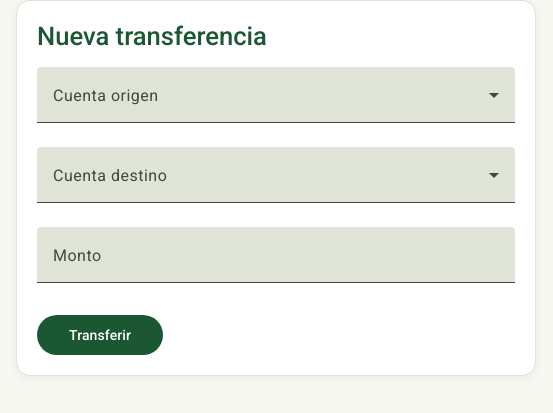
Test: TransferenciaFormComponent › debe_mostrar_error_y_no_llamar_al_backend_cuando_origen_y_destino_son_la_misma_cuenta
The width and height of the screenshot is (553, 413).
Select "1000000001 - Titular 1" in the dropdown named "cuentaOrigen": (276, 103) 53,91 -> 499,115
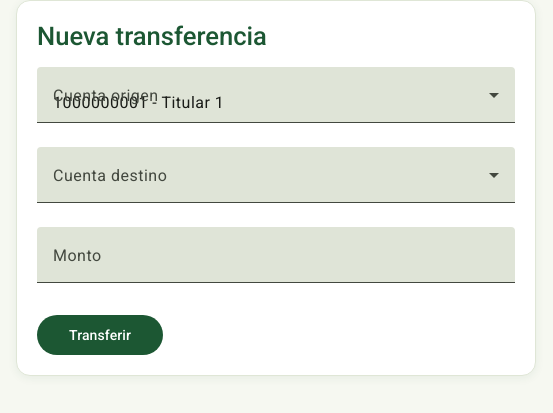
Select "1000000001 - Titular 1" in the dropdown named "cuentaDestino": (276, 183) 53,171 -> 499,195
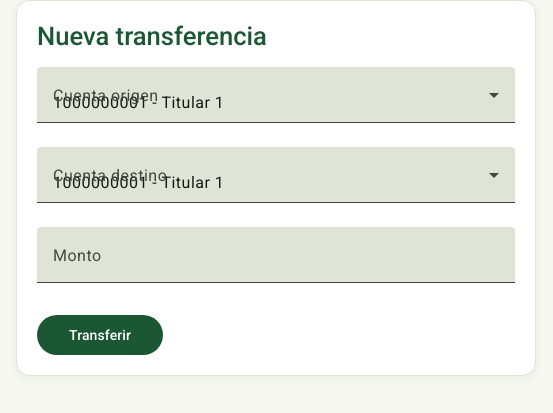
In the field named "monto": (276, 263) 53,251 -> 499,275, type "10"
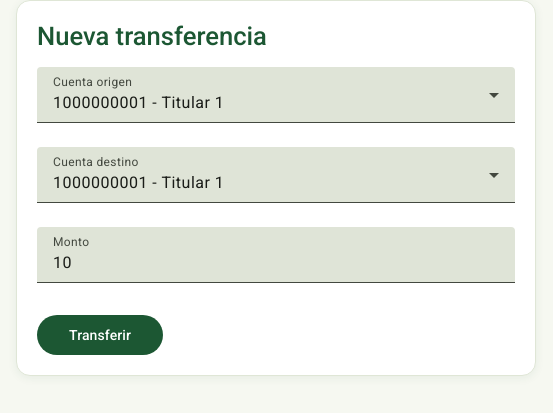
Click the submit button: (100, 335) 37,315 -> 163,355
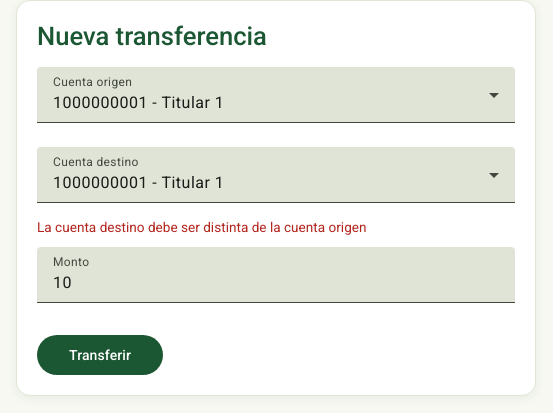
Result: the text "La cuenta destino debe ser distinta de la cuenta origen" is shown at 37,219 -> 366,235
